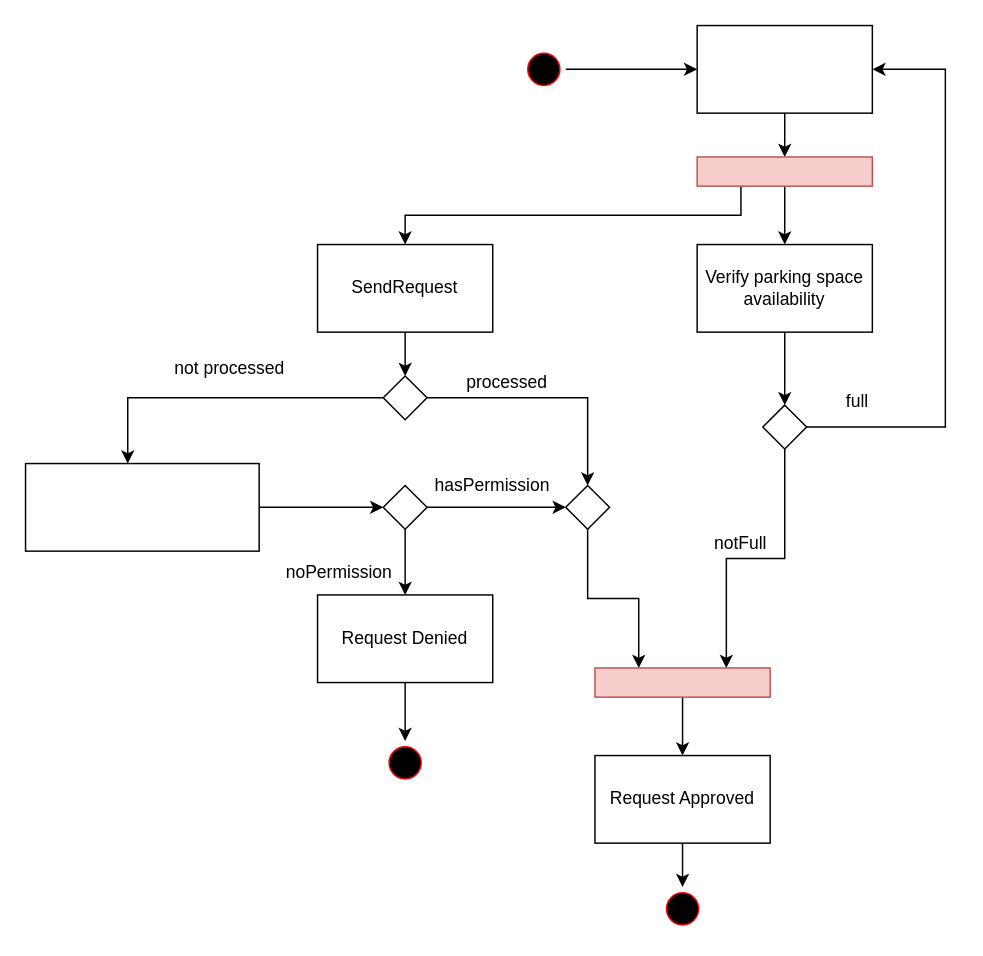
Image size: 983x956. Some labels were removed from this diagram. The centre of each missing label's shape, as x and y in pixels:
"AdminProcessesRequest" belongs at [141,506].
"SelectParkingSpot" belongs at [784,68].
